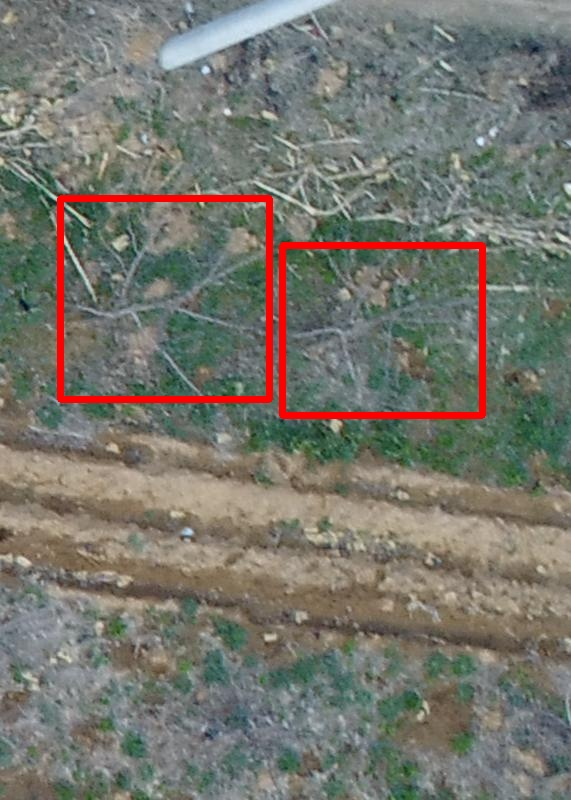apple: (60, 198, 269, 399), (282, 245, 482, 415)
